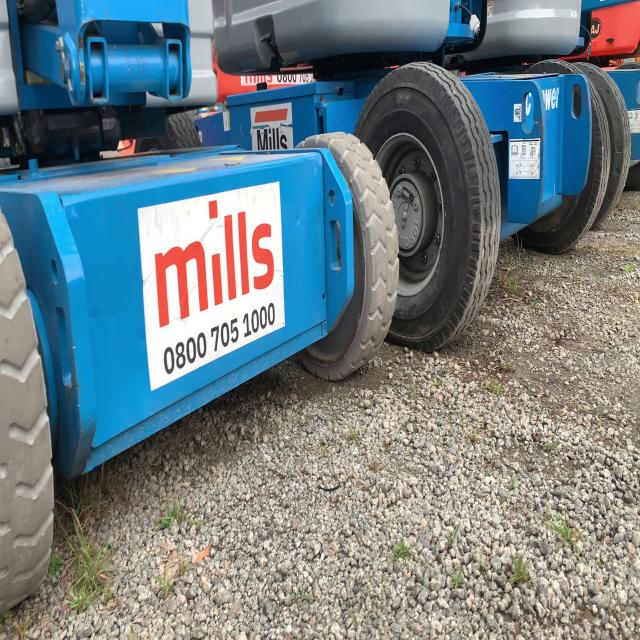Adesivos: (135, 177, 290, 401)
